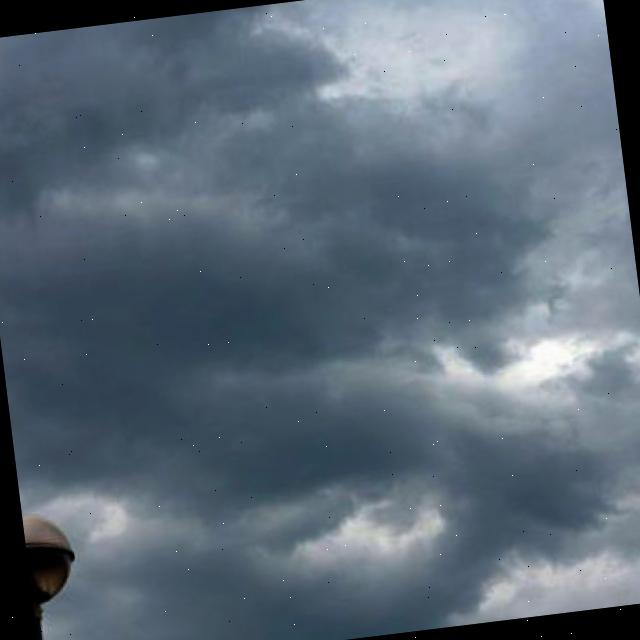As: (1, 22, 640, 475)
